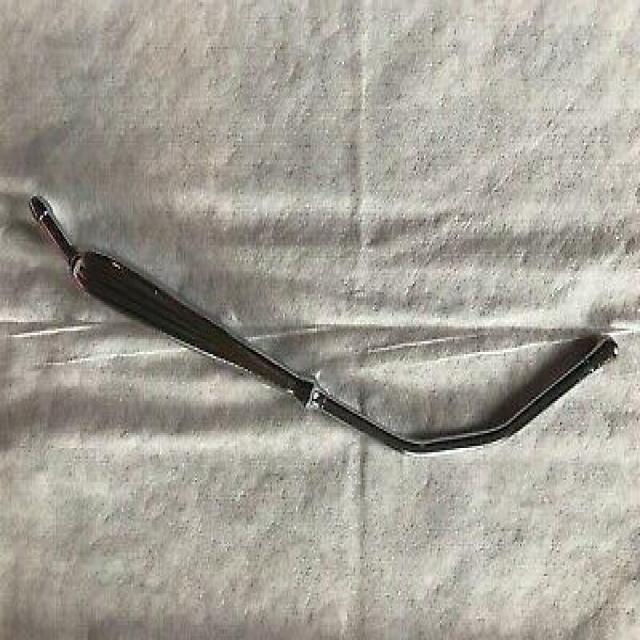Yankauer: (26, 190, 624, 463)
